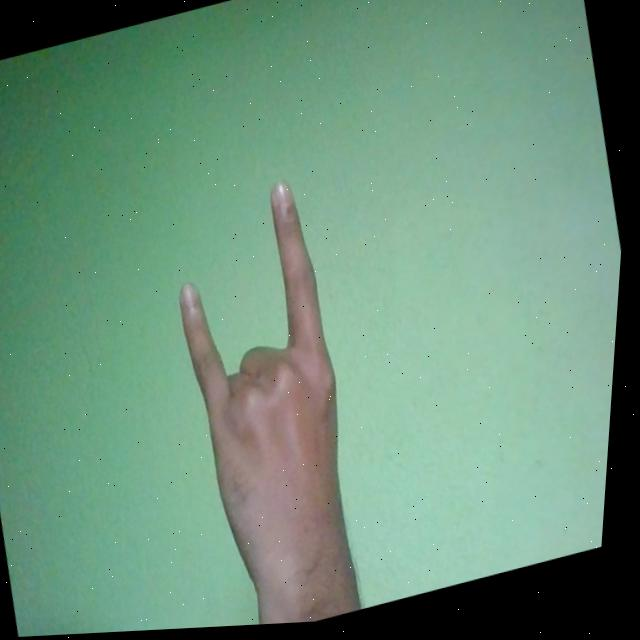Rock On: (144, 170, 399, 633)
